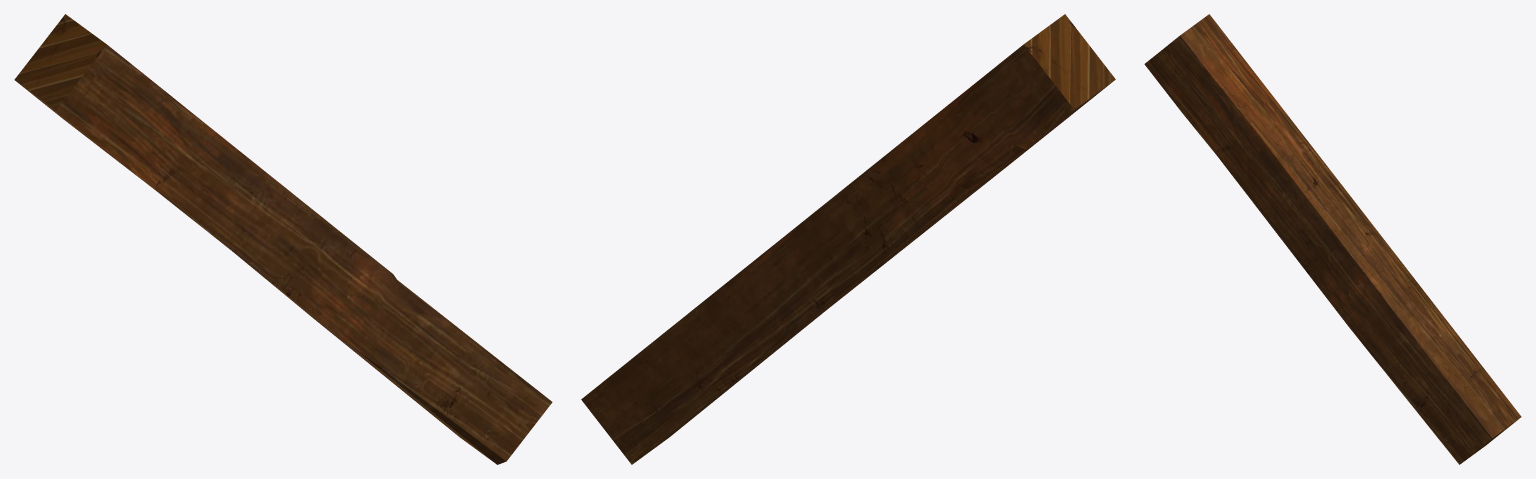
3 views of the same model, side by side, from view 1: azimuth 30°, elevation 25°; view 2: azimuth 150°, elevation 25°; view 3: azimuth 330°, elevation 25° (orthographic). The views are drawn at different scales.
Parts seen in each view (by area): view 1: SM_BB_T2_Beam_Thick_Diagonal_LOD0; view 2: SM_BB_T2_Beam_Thick_Diagonal_LOD0; view 3: SM_BB_T2_Beam_Thick_Diagonal_LOD0.
Part boxes in pixels (bbox=[...]): SM_BB_T2_Beam_Thick_Diagonal_LOD0: bbox=[14, 14, 552, 464]; SM_BB_T2_Beam_Thick_Diagonal_LOD0: bbox=[581, 14, 1115, 464]; SM_BB_T2_Beam_Thick_Diagonal_LOD0: bbox=[1144, 14, 1521, 464].
Bounding box in the file's own units: 3.35 × 3.35 × 0.4873.
Materials: 1 (1 with a texture image).
